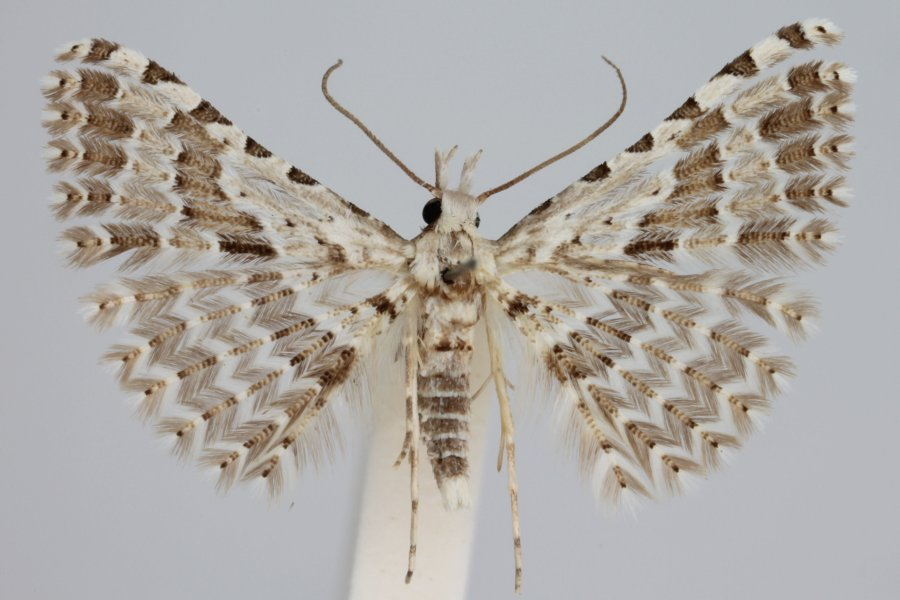Alucitidae: (33, 3, 858, 595)
moth: (31, 1, 856, 593)
